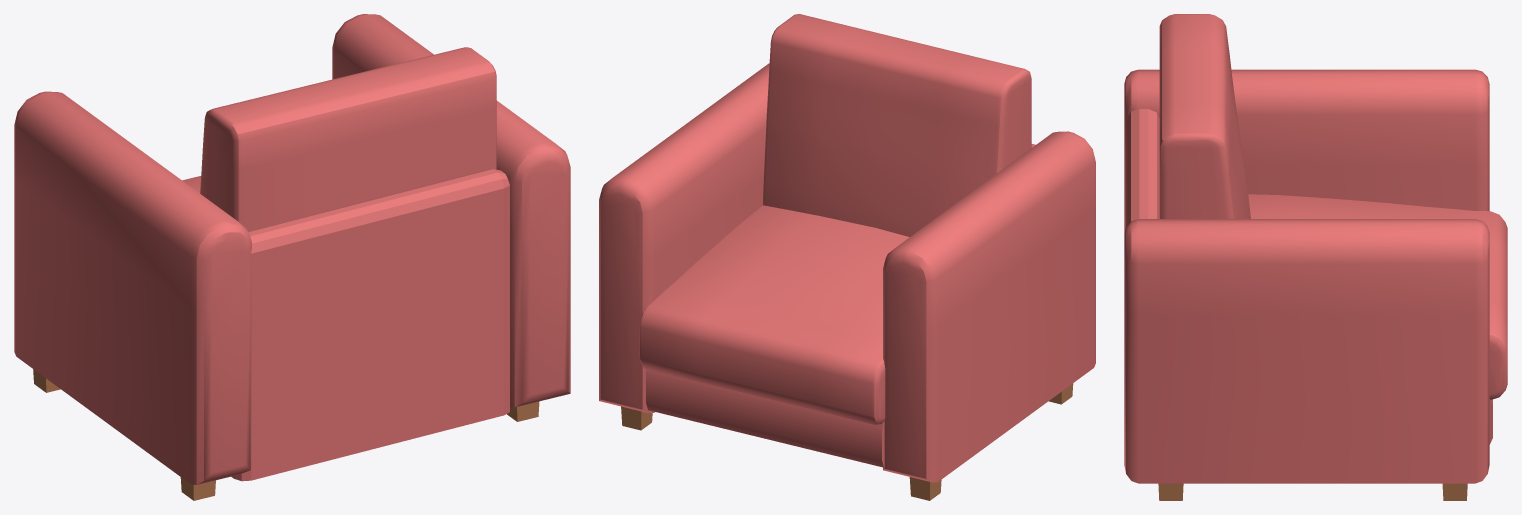
File: Chair_Single_011.glb
3 views of the same model, side by side, from view 1: azimuth 30°, elevation 25°; view 2: azimuth 150°, elevation 25°; view 3: azimuth 270°, elevation 25° (orthographic). The views are drawn at different scales.
Parts seen in each view (by area): view 1: Mesh_Chair_Single_011; view 2: Mesh_Chair_Single_011; view 3: Mesh_Chair_Single_011.
Part boxes in pixels (left/top/right/bottom): Mesh_Chair_Single_011: left=14, top=14, right=570, bottom=500; Mesh_Chair_Single_011: left=599, top=14, right=1095, bottom=500; Mesh_Chair_Single_011: left=1124, top=14, right=1507, bottom=500.
Size of the model in its own units: 0.633 by 0.5775 by 0.5782.
1 material, 1 textured.
